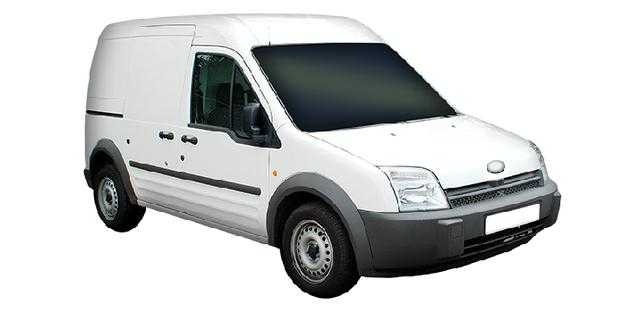van: (83, 12, 560, 299)
